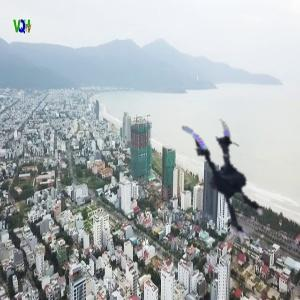drone: (150, 118, 281, 249)
